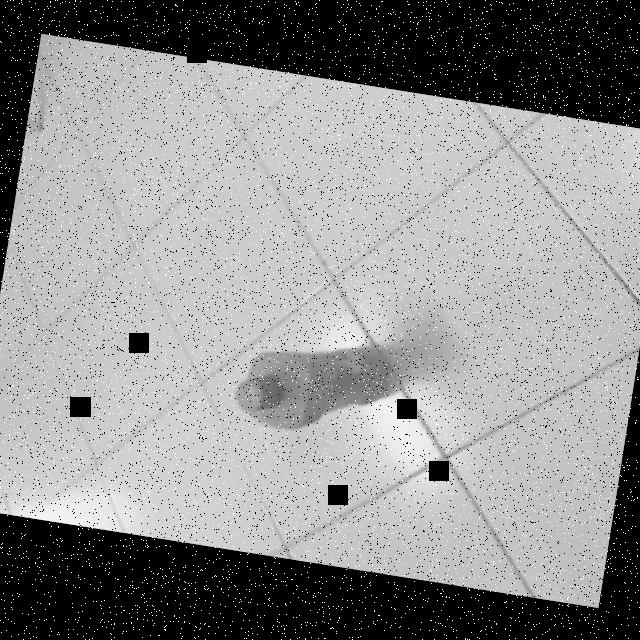chemical_plastic_bottle: (228, 322, 395, 450)
